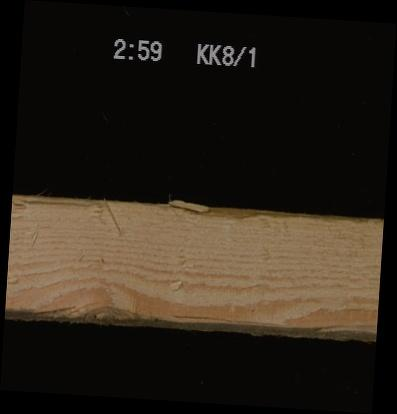split: (150, 208, 369, 228), (11, 196, 104, 213), (166, 314, 278, 323)
wave: (30, 297, 160, 322), (304, 319, 375, 338)
